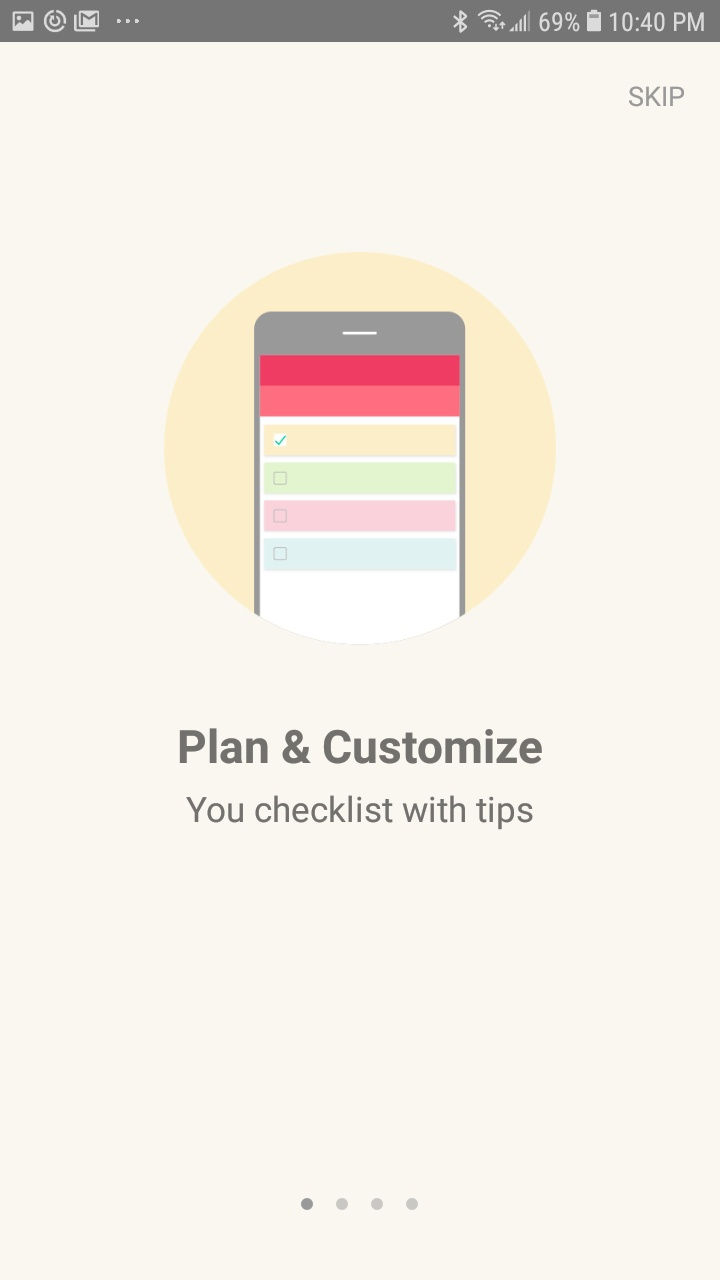Image: (164, 252, 557, 646)
PageIndicator: (300, 1197, 419, 1211)
Text: (180, 728, 543, 765), (186, 795, 534, 831), (628, 86, 685, 108)
UpperTaskBar: (1, 1, 720, 43)
